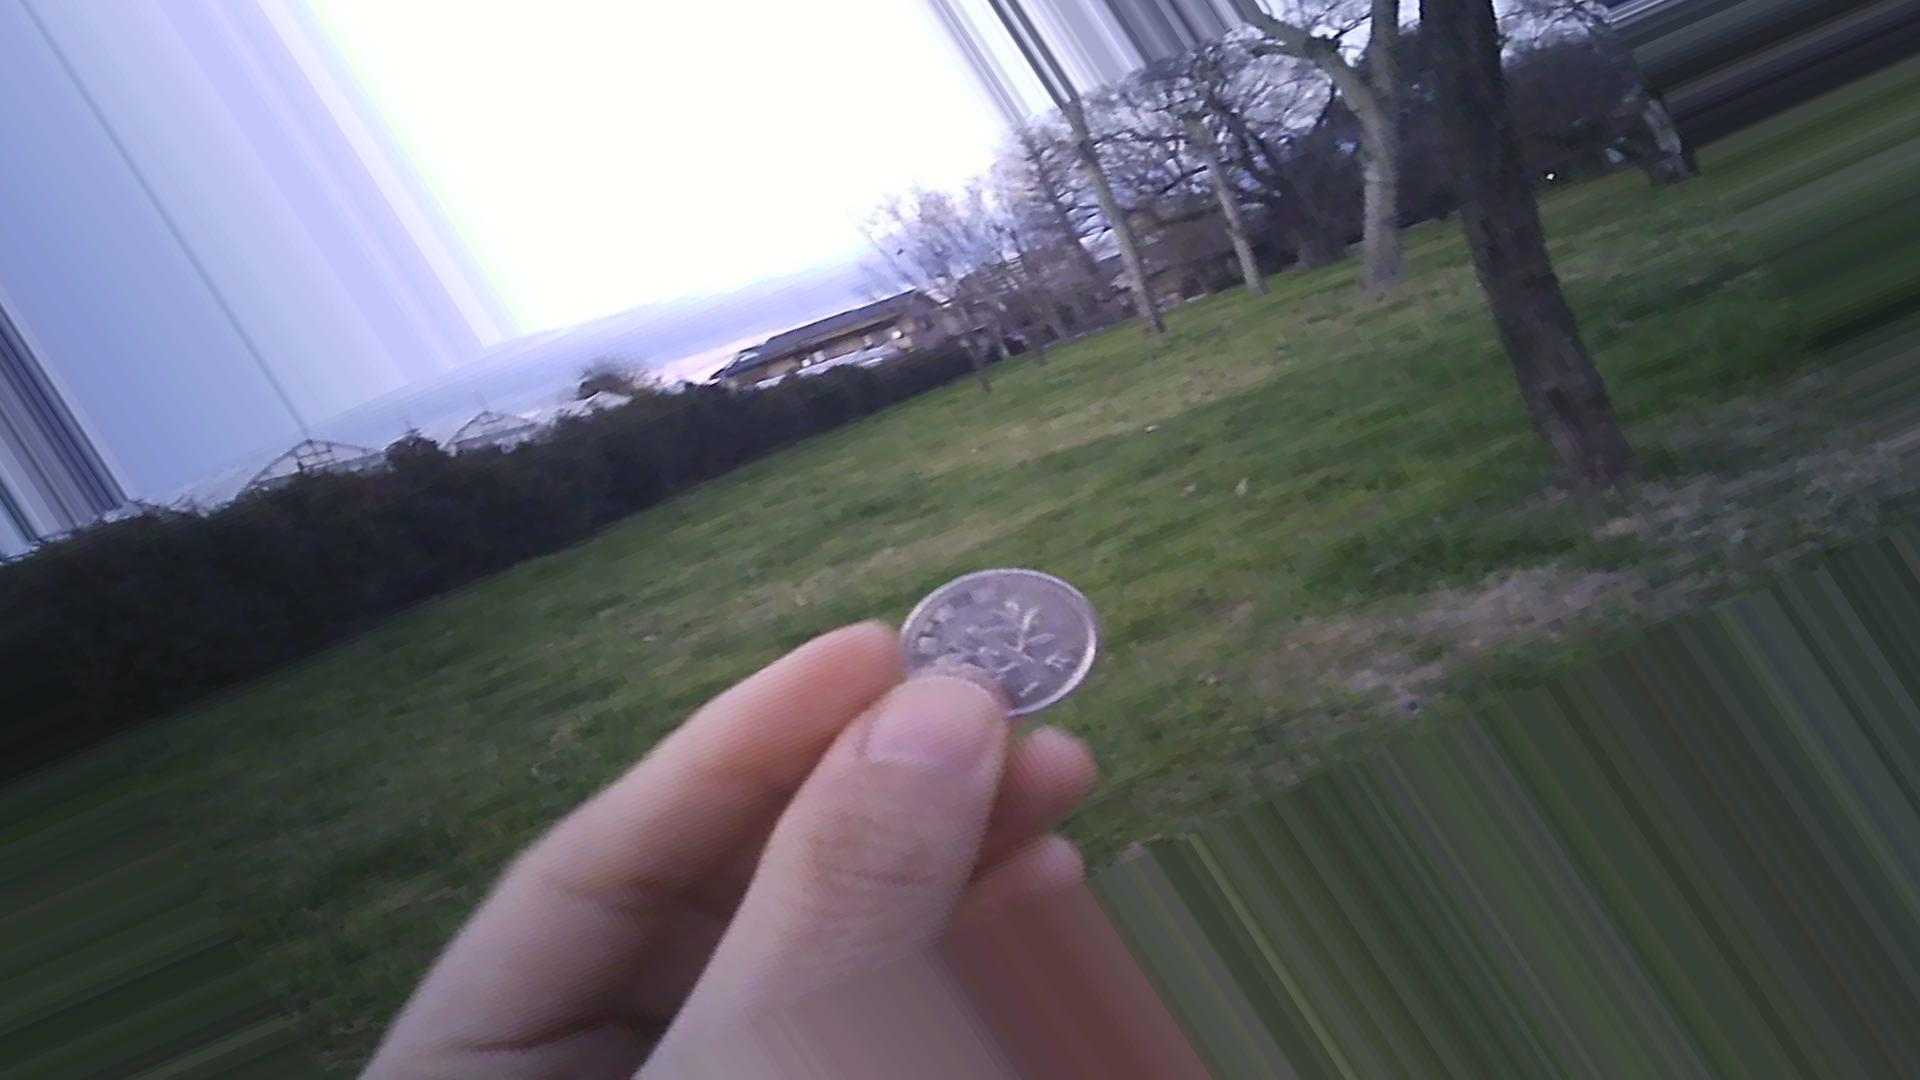1 Yen: (897, 576, 1092, 720)
